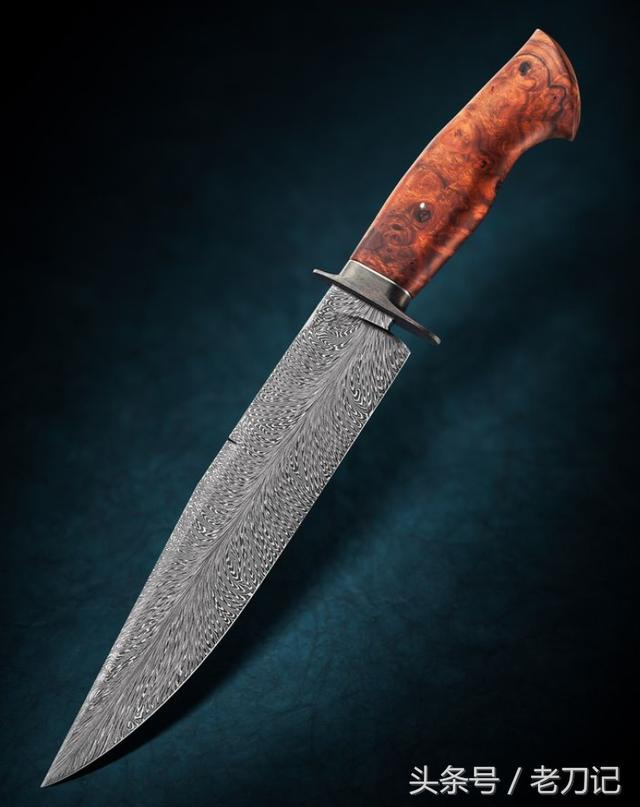knife: (12, 22, 611, 798)
